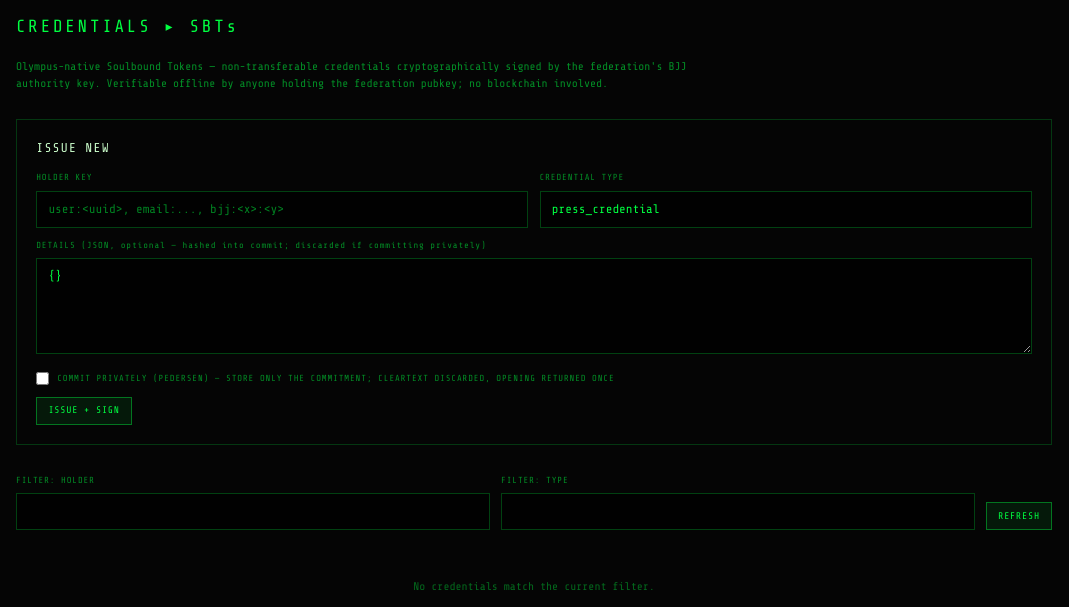
Test: <CredentialsPage> › ISSUE with an empty holder shows the required-fields error and skips the POST
The image size is (1069, 607).
Expected: the heading "CREDENTIALS ▸ SBTs" is shown, x1=16 y1=16 x2=239 y2=36
Click the button "ISSUE + SIGN". click: coordinates (84, 411)
box: x1=36 y1=397 x2=132 y2=425
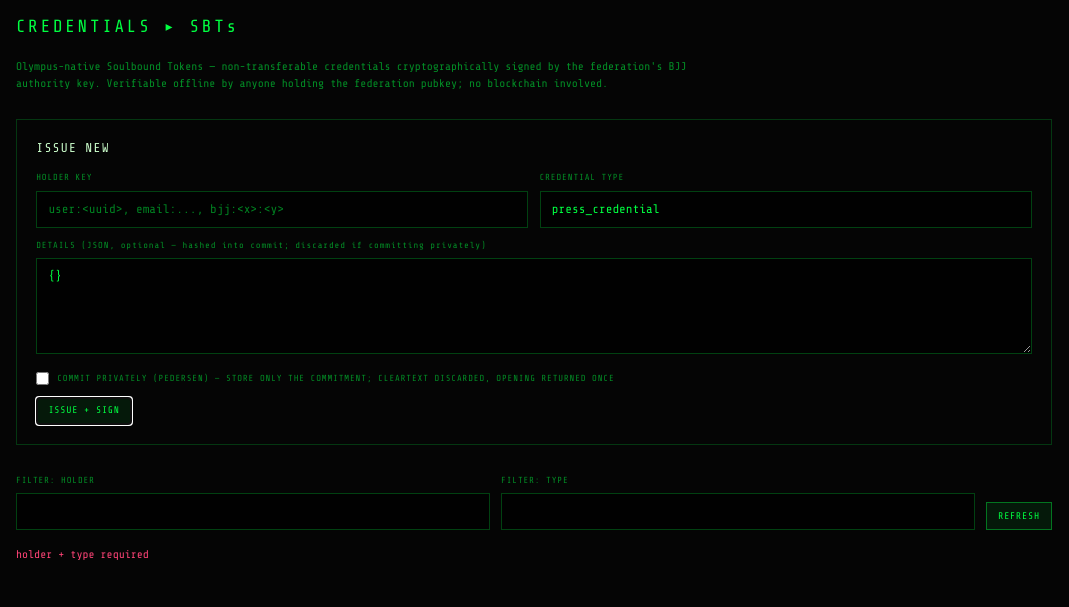
Expected: the text "holder + type required" is shown, x1=16 y1=548 x2=149 y2=561
